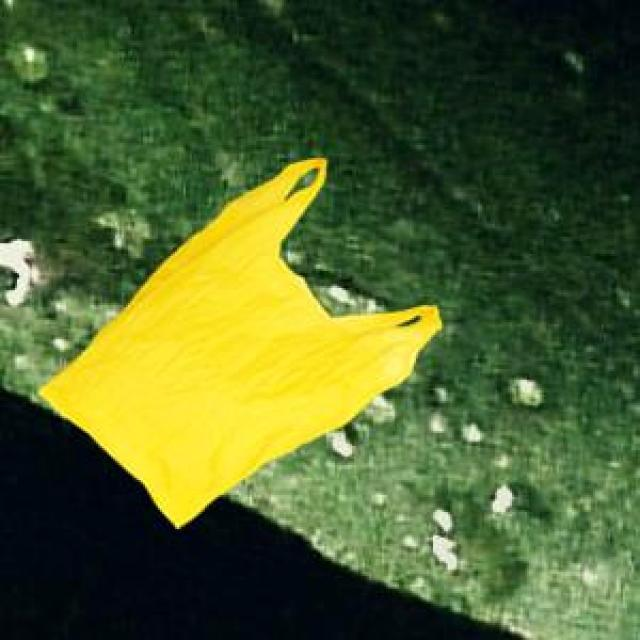Plastic_Bag: (36, 155, 438, 526)
